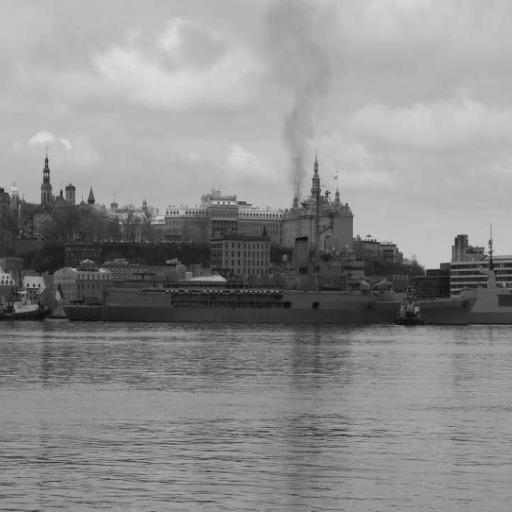Portanaves: (58, 231, 488, 338)
